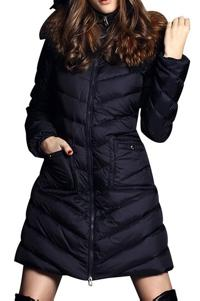C_jacket: (9, 3, 193, 280)
